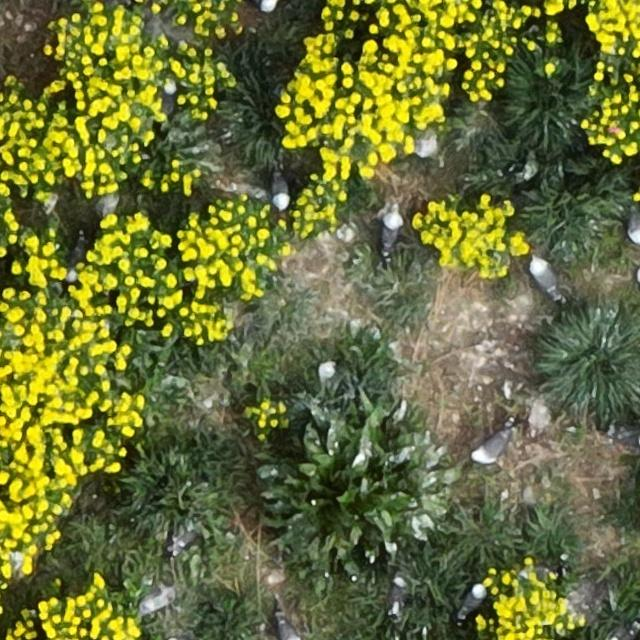umineko: (473, 432, 508, 461), (531, 259, 557, 295), (380, 211, 400, 252), (318, 362, 347, 390), (460, 585, 483, 617), (610, 427, 640, 449), (272, 174, 289, 209), (279, 619, 302, 640), (628, 210, 639, 243), (246, 0, 277, 11)
